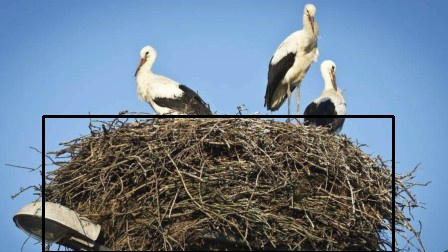bird-nest: (49, 108, 405, 252)
